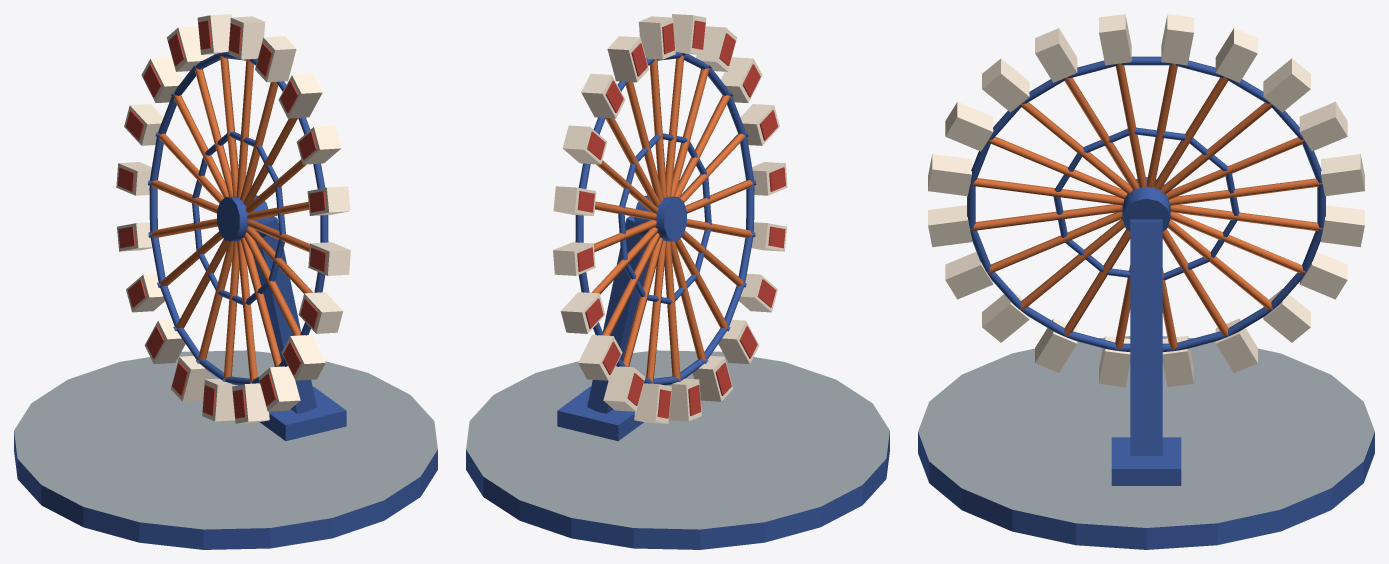
Rendered from nyc-endeavor.glb.
3 renders of one model, left to right at view 1: azimuth 30°, elevation 25°; view 2: azimuth 150°, elevation 25°; view 3: azimuth 270°, elevation 25°, orthographic. The views are drawn at different scales.
Visible parts, largest first — view 1: Endeavor, wheel; view 2: Endeavor, wheel; view 3: Endeavor, wheel.
Part boxes in pixels (box(x1,y1,x2,y2)): Endeavor: box(14, 216, 437, 549); wheel: box(116, 14, 350, 423); Endeavor: box(466, 216, 889, 549); wheel: box(553, 14, 787, 423); Endeavor: box(918, 219, 1374, 549); wheel: box(928, 14, 1364, 387).
Bounding box in the file's own units: 17 × 18.63 × 17.
